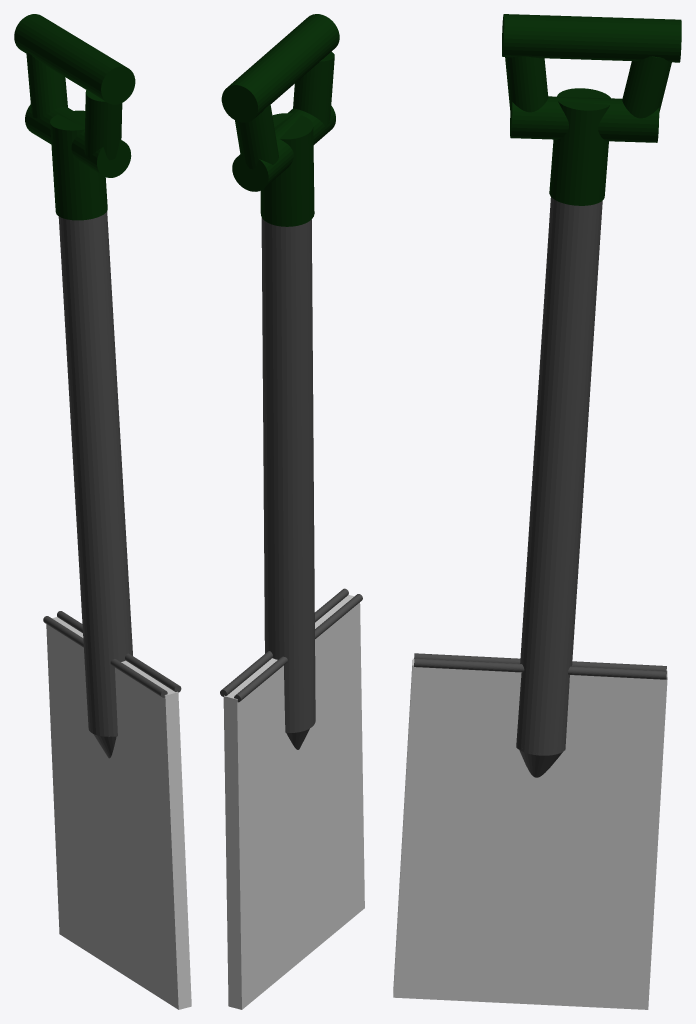
The model's file is rk_shovel.obj.
3 views of the same model, side by side, from view 1: azimuth 30°, elevation 25°; view 2: azimuth 150°, elevation 25°; view 3: azimuth 270°, elevation 25° (orthographic). The views are drawn at different scales.
Parts seen in each view (by area): view 1: Cube.001, Cylinder.007_Cylinder.010, Cylinder.005_Cylinder.007, Cylinder.008_Cylinder.012, Cylinder.002_Cylinder.004, Cylinder.004_Cylinder.006, Cylinder.003_Cylinder.005, Cylinder.001_Cylinder.008, Cylinder.006_Cylinder.009; view 2: Cube.001, Cylinder.007_Cylinder.010, Cylinder.005_Cylinder.007, Cylinder.008_Cylinder.012, Cylinder.002_Cylinder.004, Cylinder.004_Cylinder.006, Cylinder.003_Cylinder.005, Cylinder.001_Cylinder.008, Cylinder.006_Cylinder.009; view 3: Cube.001, Cylinder.007_Cylinder.010, Cylinder.005_Cylinder.007, Cylinder.008_Cylinder.012, Cylinder.002_Cylinder.004, Cylinder.003_Cylinder.005, Cylinder.004_Cylinder.006, Cylinder.006_Cylinder.009, Cylinder.001_Cylinder.008.
Boxes of the visible parts, x1,y1,x2,y2 form: Cube.001: (46, 617, 191, 1009); Cylinder.007_Cylinder.010: (58, 211, 132, 736); Cylinder.005_Cylinder.007: (14, 14, 135, 104); Cylinder.008_Cylinder.012: (50, 110, 107, 220); Cylinder.002_Cylinder.004: (25, 104, 131, 177); Cylinder.004_Cylinder.006: (84, 89, 122, 160); Cylinder.003_Cylinder.005: (26, 52, 67, 118); Cylinder.001_Cylinder.008: (43, 616, 167, 697); Cylinder.006_Cylinder.009: (57, 611, 181, 692); Cube.001: (223, 595, 364, 1009); Cylinder.007_Cylinder.010: (261, 217, 315, 732); Cylinder.005_Cylinder.007: (221, 14, 339, 122); Cylinder.008_Cylinder.012: (260, 113, 314, 226); Cylinder.002_Cylinder.004: (232, 106, 335, 191); Cylinder.004_Cylinder.006: (293, 51, 334, 125); Cylinder.003_Cylinder.005: (235, 104, 278, 169); Cylinder.001_Cylinder.008: (234, 594, 362, 702); Cylinder.006_Cylinder.009: (220, 588, 348, 696); Cube.001: (393, 658, 667, 1009); Cylinder.007_Cylinder.010: (516, 197, 602, 755); Cylinder.005_Cylinder.007: (502, 14, 681, 62); Cylinder.008_Cylinder.012: (549, 88, 610, 205); Cylinder.002_Cylinder.004: (510, 96, 659, 142); Cylinder.003_Cylinder.005: (622, 56, 671, 118); Cylinder.004_Cylinder.006: (505, 56, 548, 116); Cylinder.006_Cylinder.009: (414, 658, 666, 679); Cylinder.001_Cylinder.008: (414, 653, 666, 671).
Bounding box in the file's own units: 0.4277 × 6.26 × 1.67.
